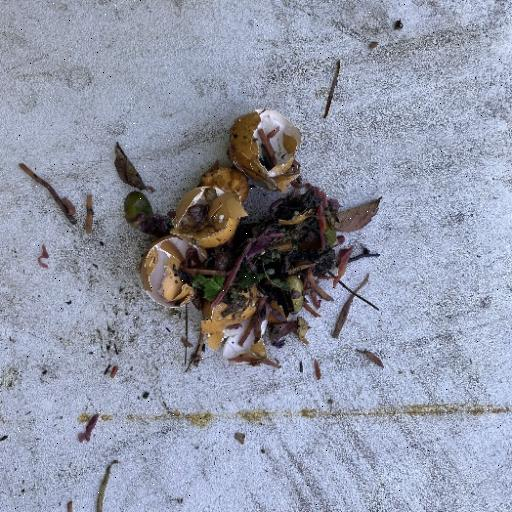Waste: (120, 106, 383, 374)
